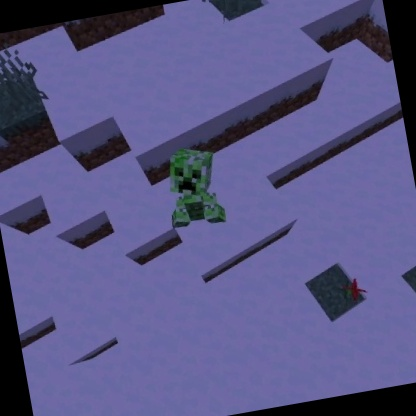creeper: (158, 141, 230, 235)
